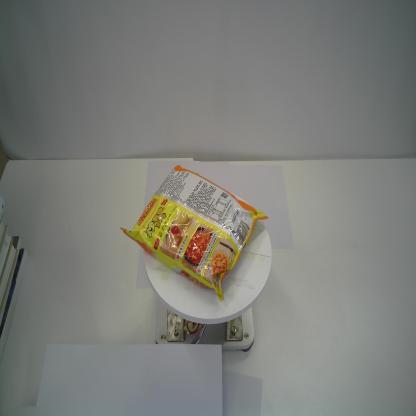Instant Noodles: (118, 163, 271, 304)
